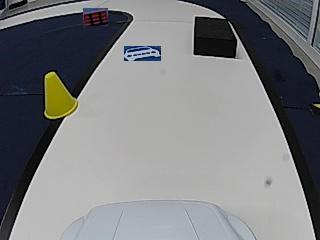block: (194, 16, 236, 57)
cone: (44, 73, 79, 119)
